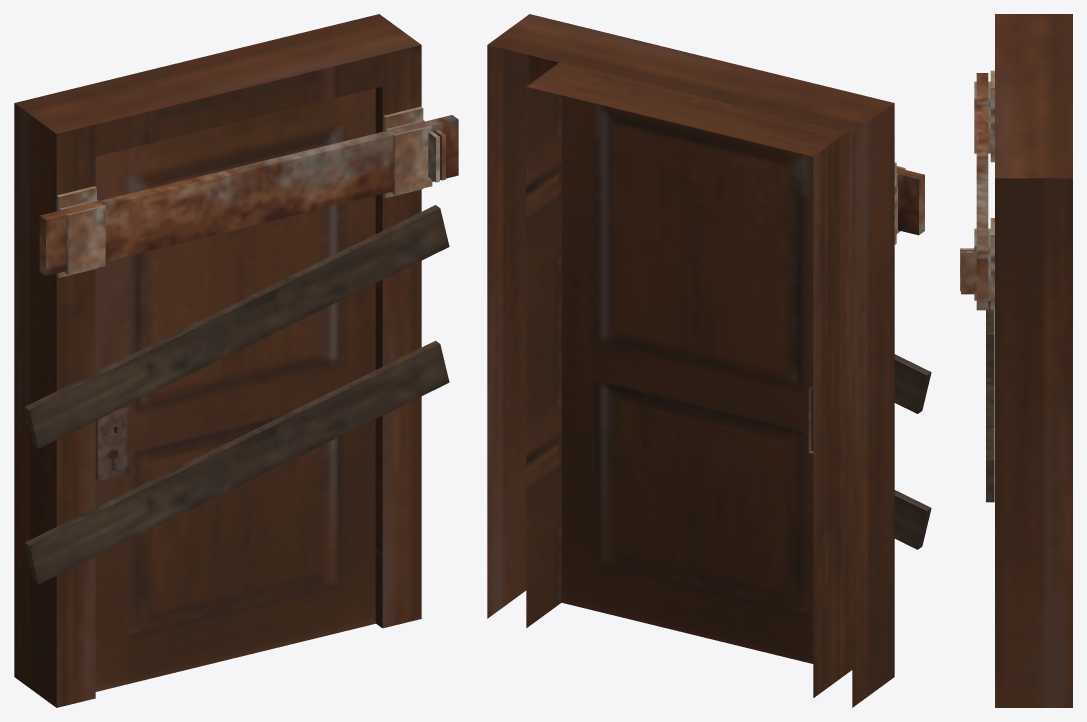
File: Main_door (1).fbx
3 views of the same model, side by side, from view 1: azimuth 30°, elevation 25°; view 2: azimuth 150°, elevation 25°; view 3: azimuth 270°, elevation 25° (orthographic). The views are drawn at different scales.
Parts seen in each view (by area): view 1: brown_door.002, Plane.005, Cube, Cube.001, Plane.004, Plane; view 2: brown_door.002, Plane.005, Cube, Cube.001; view 3: brown_door.002, Plane.005, Plane.004, Cube.001, Cube.
Boxes of the visible parts, box(x1,y1,x2,y2) form: brown_door.002: box(14, 14, 421, 707); Plane.005: box(39, 115, 458, 275); Cube: box(25, 205, 449, 448); Cube.001: box(25, 340, 449, 584); Plane.004: box(56, 106, 439, 277); Plane: box(95, 407, 129, 481); brown_door.002: box(487, 14, 894, 707); Plane.005: box(896, 168, 924, 235); Cube: box(894, 354, 931, 413); Cube.001: box(894, 490, 931, 549); brown_door.002: box(995, 14, 1072, 707); Plane.005: box(961, 73, 988, 310); Plane.004: box(960, 70, 994, 309); Cube.001: box(986, 377, 994, 502); Cube: box(986, 300, 994, 376).
Size of the model in its own units: 188 by 243 by 46.89.
Materials: 5 (5 with a texture image).
